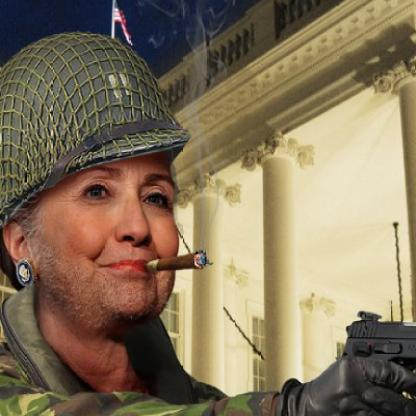gun: (338, 300, 415, 415)
